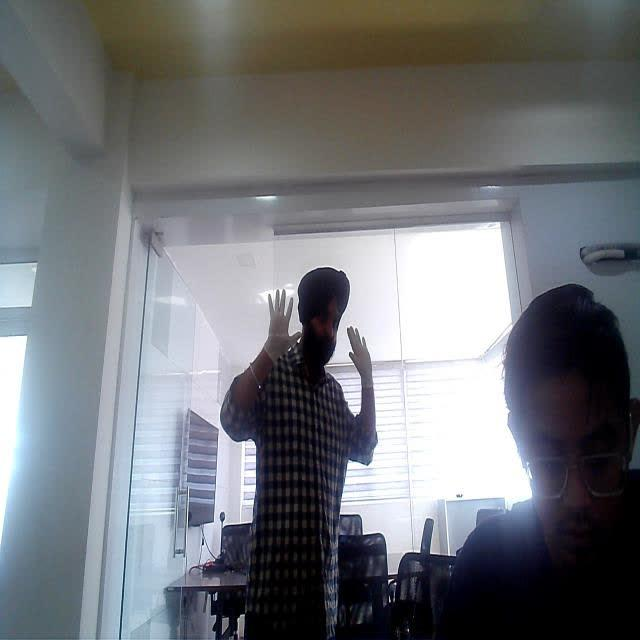with_gloves: (262, 285, 307, 375), (339, 323, 382, 392)
